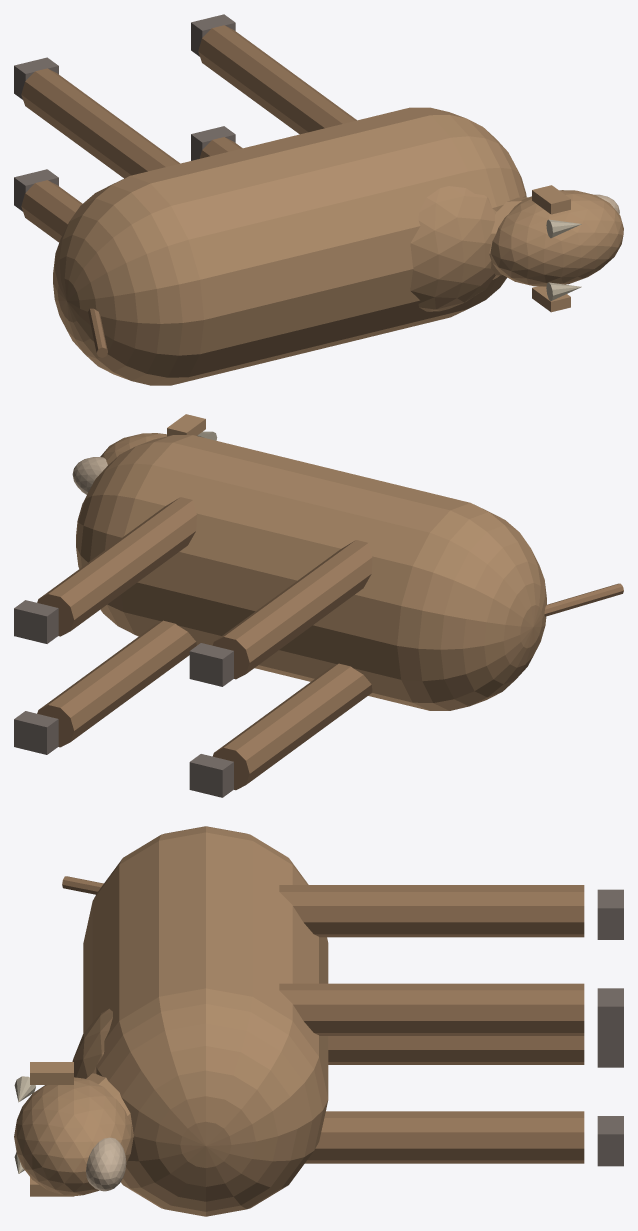
Rendered from cow_brown_farm_v1.glb.
3 renders of one model, top to bottom at view 1: azimuth 30°, elevation 25°; view 2: azimuth 150°, elevation 25°; view 3: azimuth 270°, elevation 25°, orthographic. The views are drawn at different scales.
Visible parts, largest first — view 1: torso_body, head_head, torso_chest, arms_front_leg_0, legs_hind_leg_2, legs_hind_leg_3, head_ear_1, legs_hoof_3, legs_hoof_0, legs_hoof_2, legs_hoof_1, head_ear_-1 (+3 smaller); view 2: torso_body, arms_front_leg_0, legs_hind_leg_2, legs_hind_leg_3, arms_front_leg_1, legs_hoof_3, legs_hoof_0, legs_hoof_1, legs_hoof_2, torso_tail, head_muzzle, head_head (+1 smaller); view 3: torso_body, arms_front_leg_0, legs_hind_leg_2, arms_front_leg_1, head_head, legs_hind_leg_3, head_muzzle, torso_chest, legs_hoof_0, legs_hoof_1, legs_hoof_2, head_ear_1 (+1 smaller).
Boxes of the visible parts, x1=… form: torso_body: x1=53, y1=107, x2=526, y2=385; head_head: x1=490, y1=190, x2=623, y2=286; torso_chest: x1=410, y1=186, x2=496, y2=311; arms_front_leg_0: x1=198, y1=25, x2=356, y2=134; legs_hind_leg_2: x1=21, y1=68, x2=179, y2=178; legs_hind_leg_3: x1=21, y1=180, x2=82, y2=242; head_ear_1: x1=532, y1=185, x2=570, y2=214; legs_hoof_3: x1=14, y1=169, x2=58, y2=211; legs_hoof_0: x1=191, y1=14, x2=235, y2=56; legs_hoof_2: x1=14, y1=57, x2=58, y2=99; legs_hoof_1: x1=191, y1=126, x2=235, y2=160; head_ear_-1: x1=532, y1=286, x2=570, y2=312; torso_body: x1=76, y1=435, x2=546, y2=710; arms_front_leg_0: x1=37, y1=497, x2=196, y2=636; legs_hind_leg_2: x1=212, y1=540, x2=372, y2=679; legs_hind_leg_3: x1=212, y1=663, x2=372, y2=790; arms_front_leg_1: x1=37, y1=620, x2=196, y2=747; legs_hoof_3: x1=189, y1=754, x2=233, y2=797; legs_hoof_0: x1=14, y1=600, x2=58, y2=643; legs_hoof_1: x1=14, y1=711, x2=58, y2=754; legs_hoof_2: x1=189, y1=643, x2=233, y2=686; torso_tail: x1=544, y1=583, x2=623, y2=616; head_muzzle: x1=72, y1=457, x2=107, y2=494; head_head: x1=100, y1=433, x2=166, y2=464; torso_body: x1=83, y1=826, x2=328, y2=1216; arms_front_leg_0: x1=279, y1=983, x2=584, y2=1035; legs_hind_leg_2: x1=279, y1=885, x2=584, y2=937; arms_front_leg_1: x1=305, y1=1111, x2=584, y2=1163; head_head: x1=14, y1=1077, x2=133, y2=1196; legs_hind_leg_3: x1=328, y1=1036, x2=584, y2=1064; head_muzzle: x1=86, y1=1137, x2=126, y2=1191; torso_chest: x1=72, y1=1008, x2=112, y2=1078; legs_hoof_0: x1=597, y1=988, x2=623, y2=1038; legs_hoof_1: x1=597, y1=1116, x2=623, y2=1166; legs_hoof_2: x1=597, y1=889, x2=623, y2=939; head_ear_1: x1=30, y1=1062, x2=73, y2=1084.
Size of the model in its own units: 1.61 by 0.5569 by 1.39.
